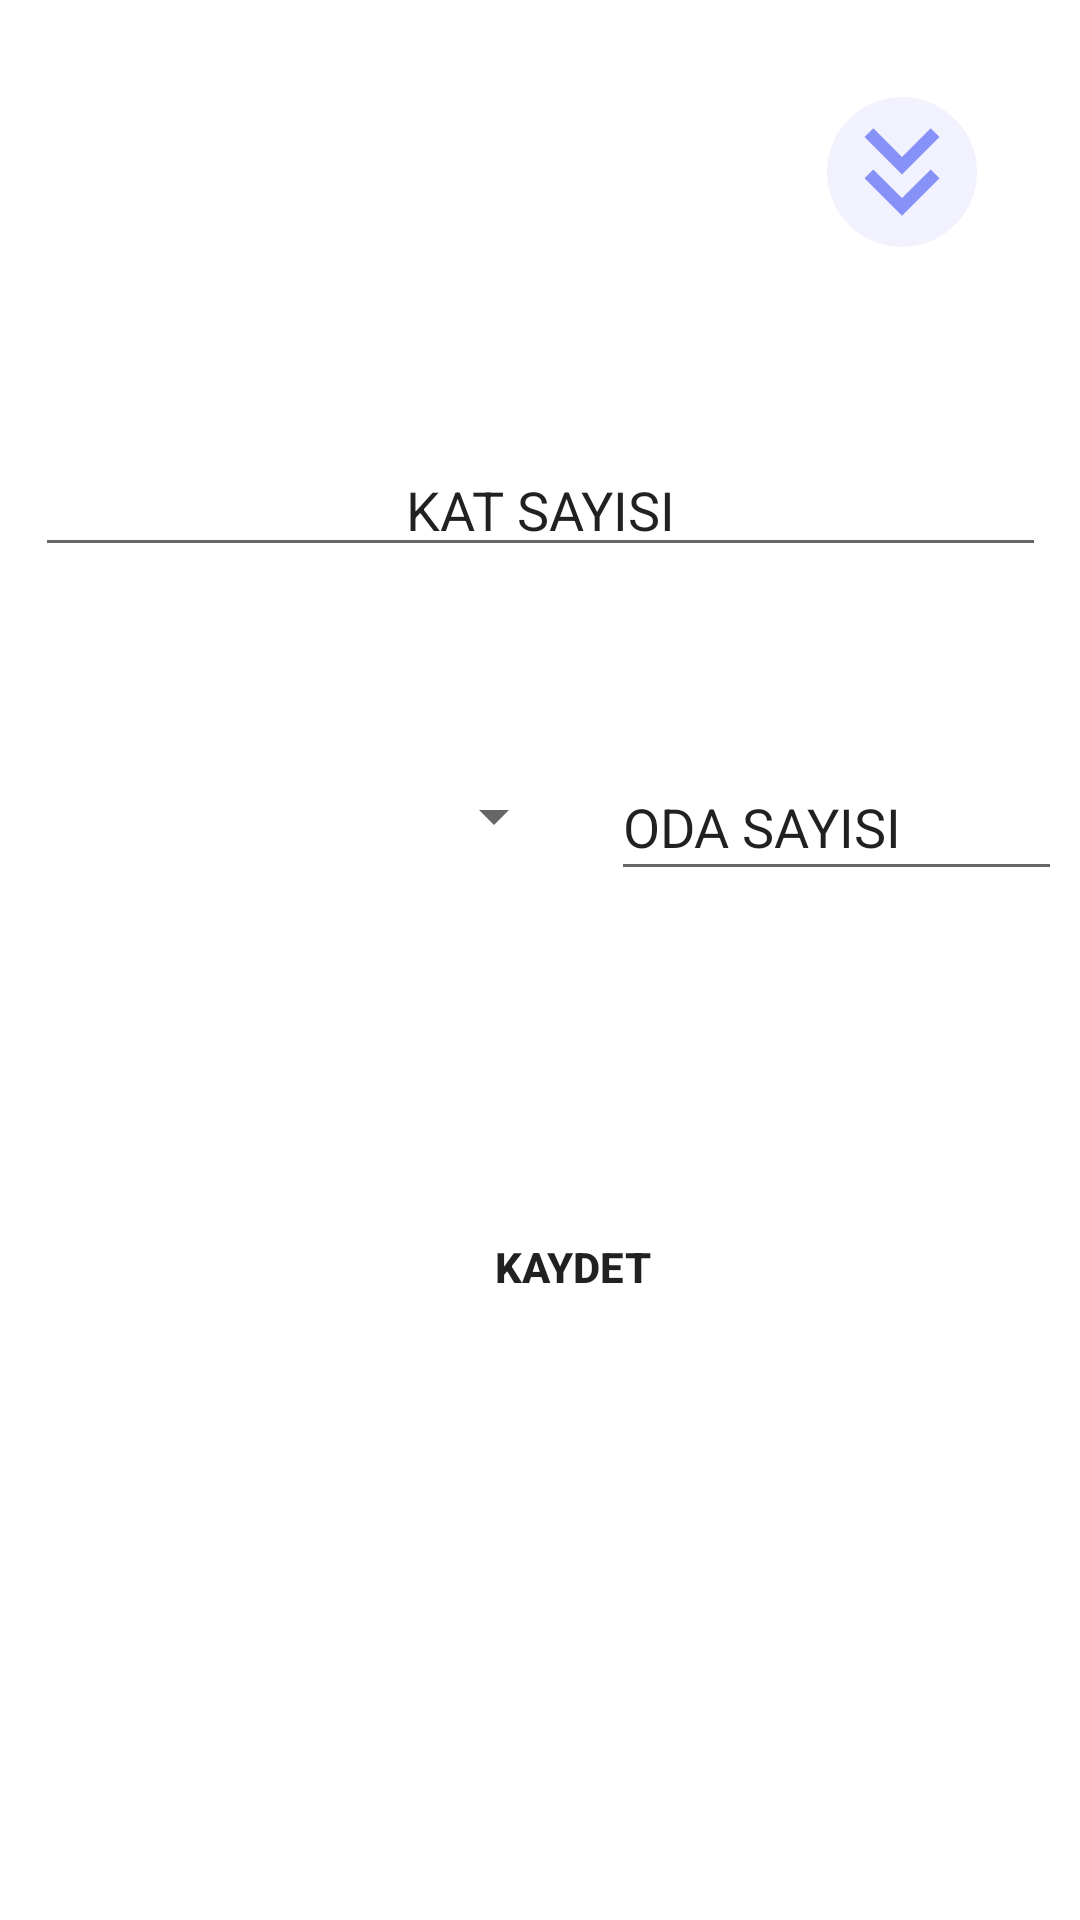

Screen size 1080px x 1920px. Icon name, then its center in pixels as point (x, y):
down: point (902, 172)
